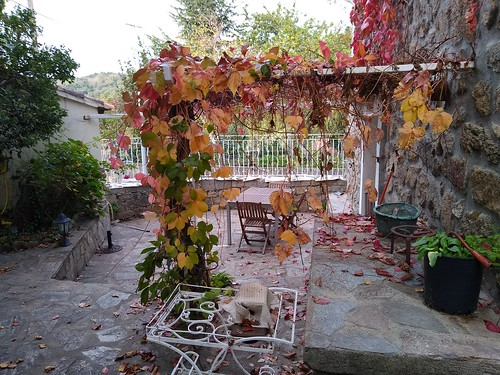chair: (238, 206, 273, 251)
vegetation: (110, 55, 220, 290), (155, 1, 346, 126), (1, 1, 71, 152), (10, 136, 106, 228)
